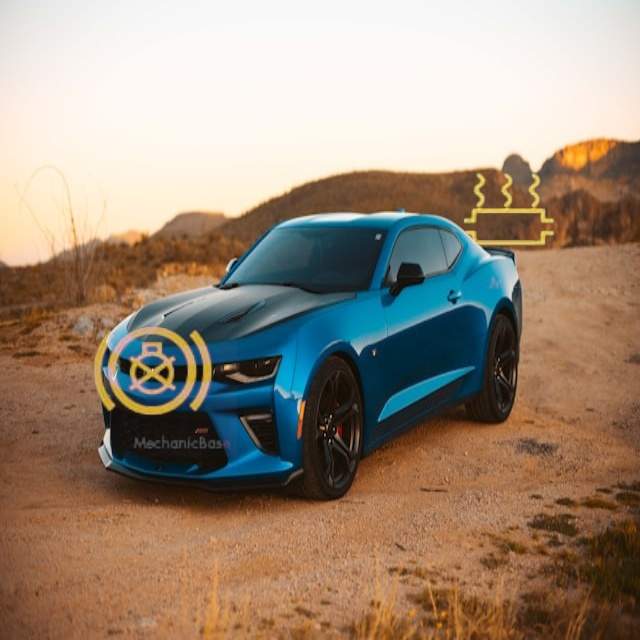symbol: (422, 123, 596, 297), (67, 287, 237, 457)
